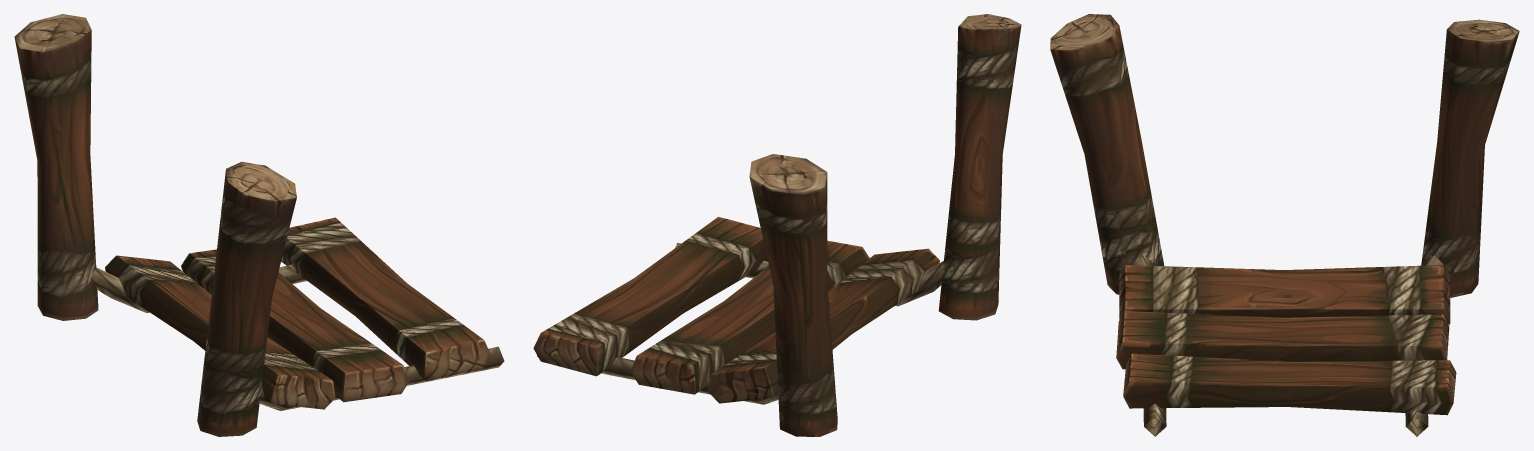
File: rope_bridge_start_r_small.fbx
The picture shows the model from 3 angles, left to right: view 1: azimuth 30°, elevation 25°; view 2: azimuth 150°, elevation 25°; view 3: azimuth 270°, elevation 25°; orthographic projection. The views are drawn at different scales.
Parts seen in each view (by area): view 1: rope_bridge_start_r_small; view 2: rope_bridge_start_r_small; view 3: rope_bridge_start_r_small.
Boxes of the visible parts, <box> form: rope_bridge_start_r_small: <box>14,14,504,436</box>; rope_bridge_start_r_small: <box>533,14,1021,436</box>; rope_bridge_start_r_small: <box>1050,14,1519,436</box>.
Size of the model in its own units: 140 by 123 by 186.
